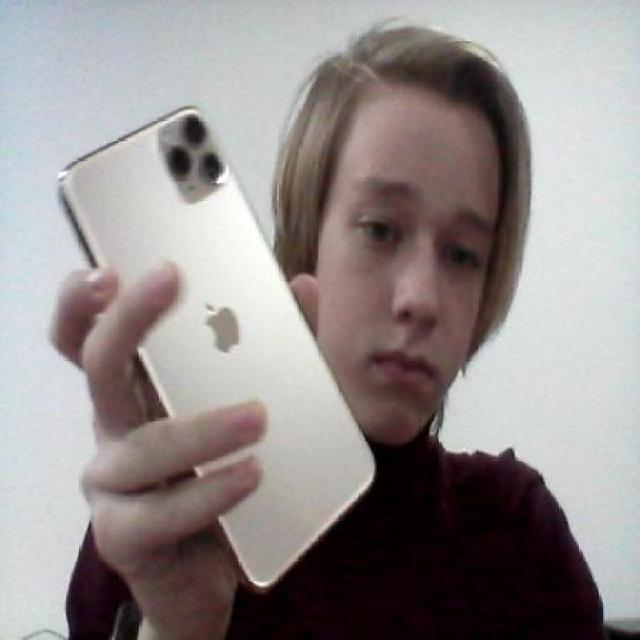mobile: (56, 100, 390, 602)
